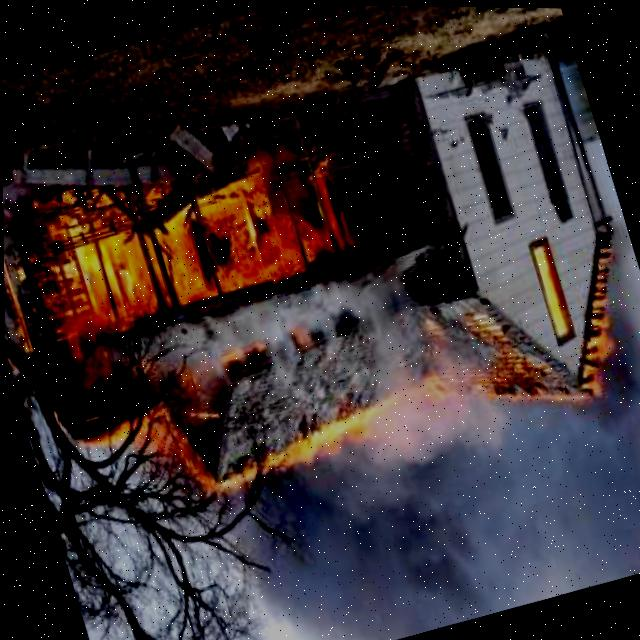Fire: (34, 117, 373, 344), (178, 397, 391, 504), (530, 221, 640, 398), (414, 292, 557, 425)
Smoke: (216, 350, 640, 640)
